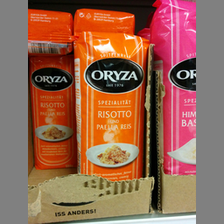rice: (73, 32, 151, 180), (150, 1, 196, 175), (29, 55, 74, 170)
